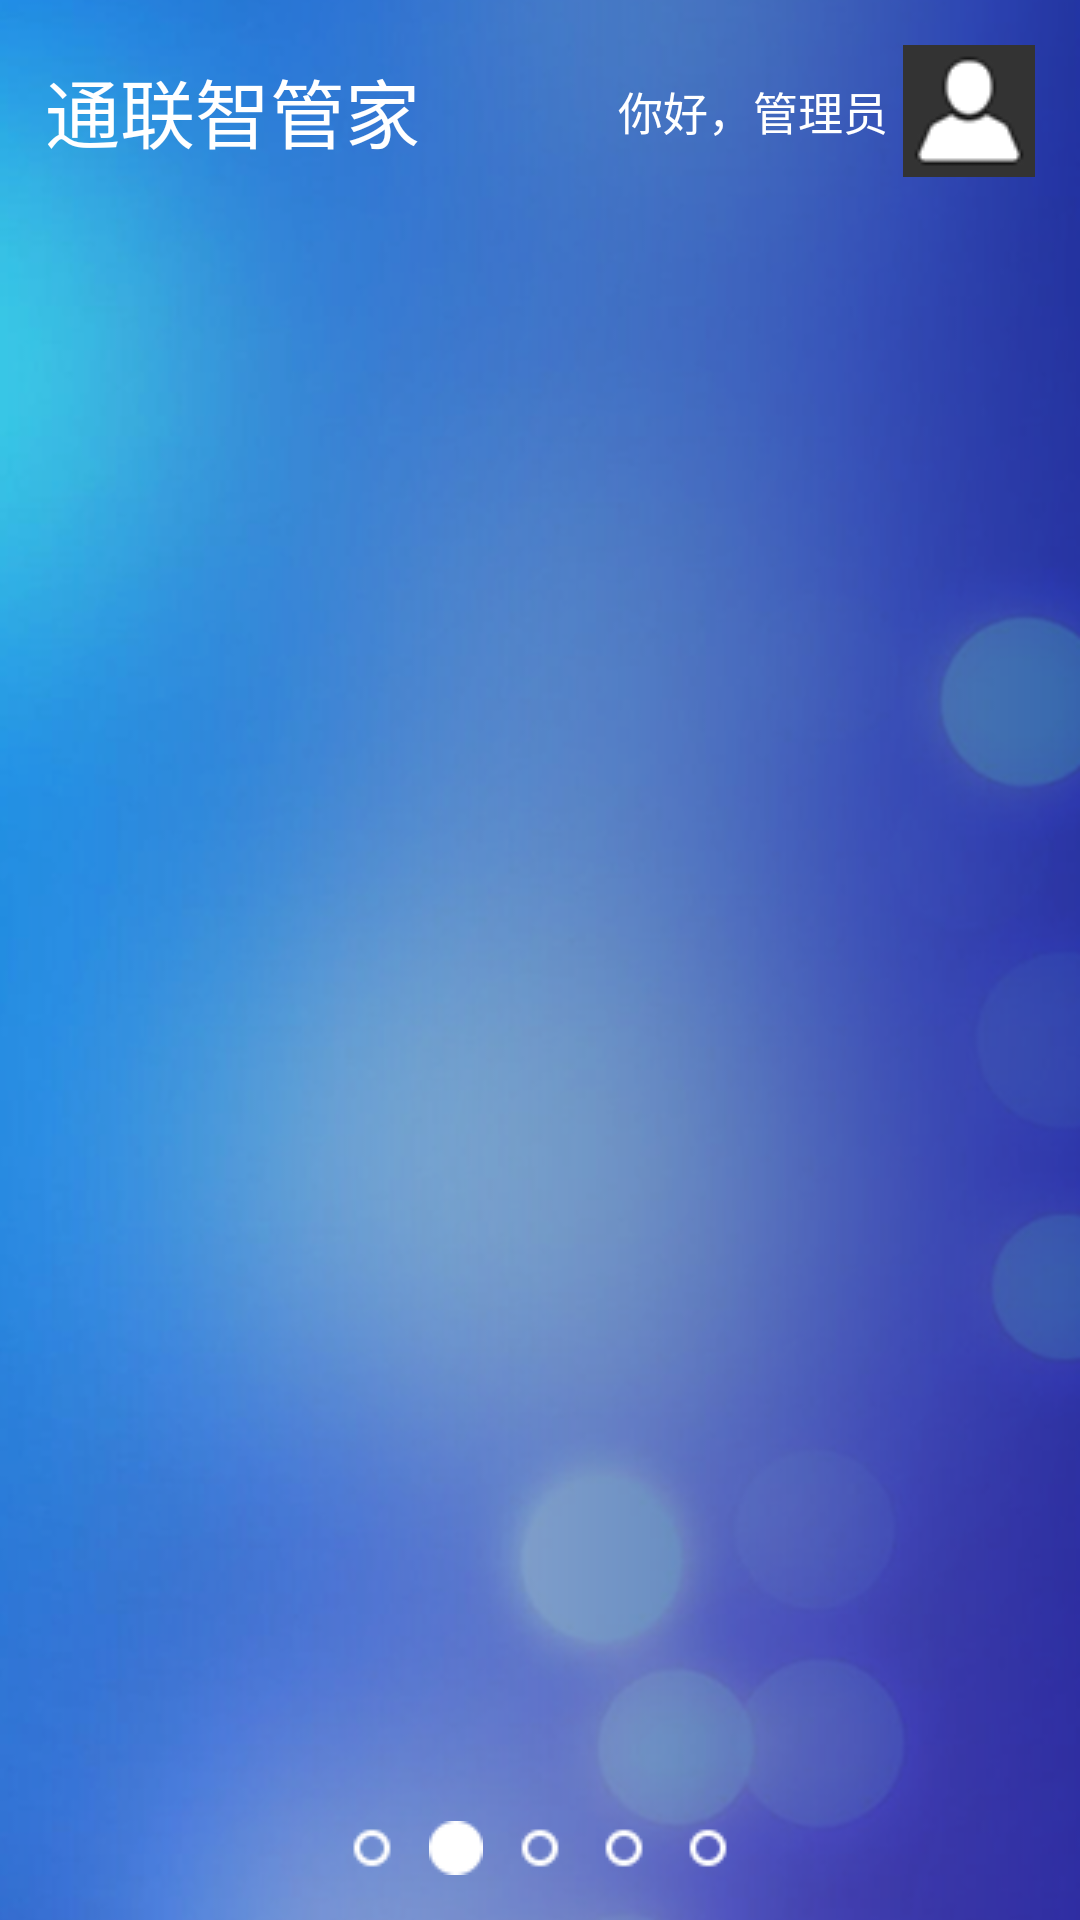

Icons on this 1080×1920 Android screen, each with its box as region(x1, y1, x2, y2):
dot: region(353, 1829, 391, 1867), region(521, 1829, 559, 1867), region(605, 1829, 643, 1867), region(689, 1829, 727, 1867)
dot on: region(429, 1821, 483, 1875)
